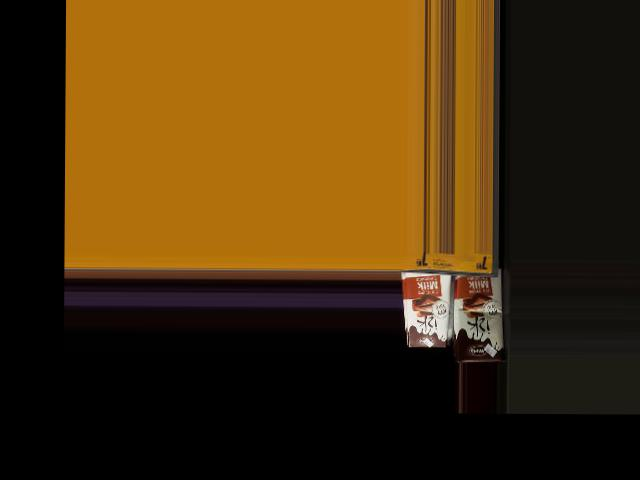chocolate: (396, 262, 450, 349)
